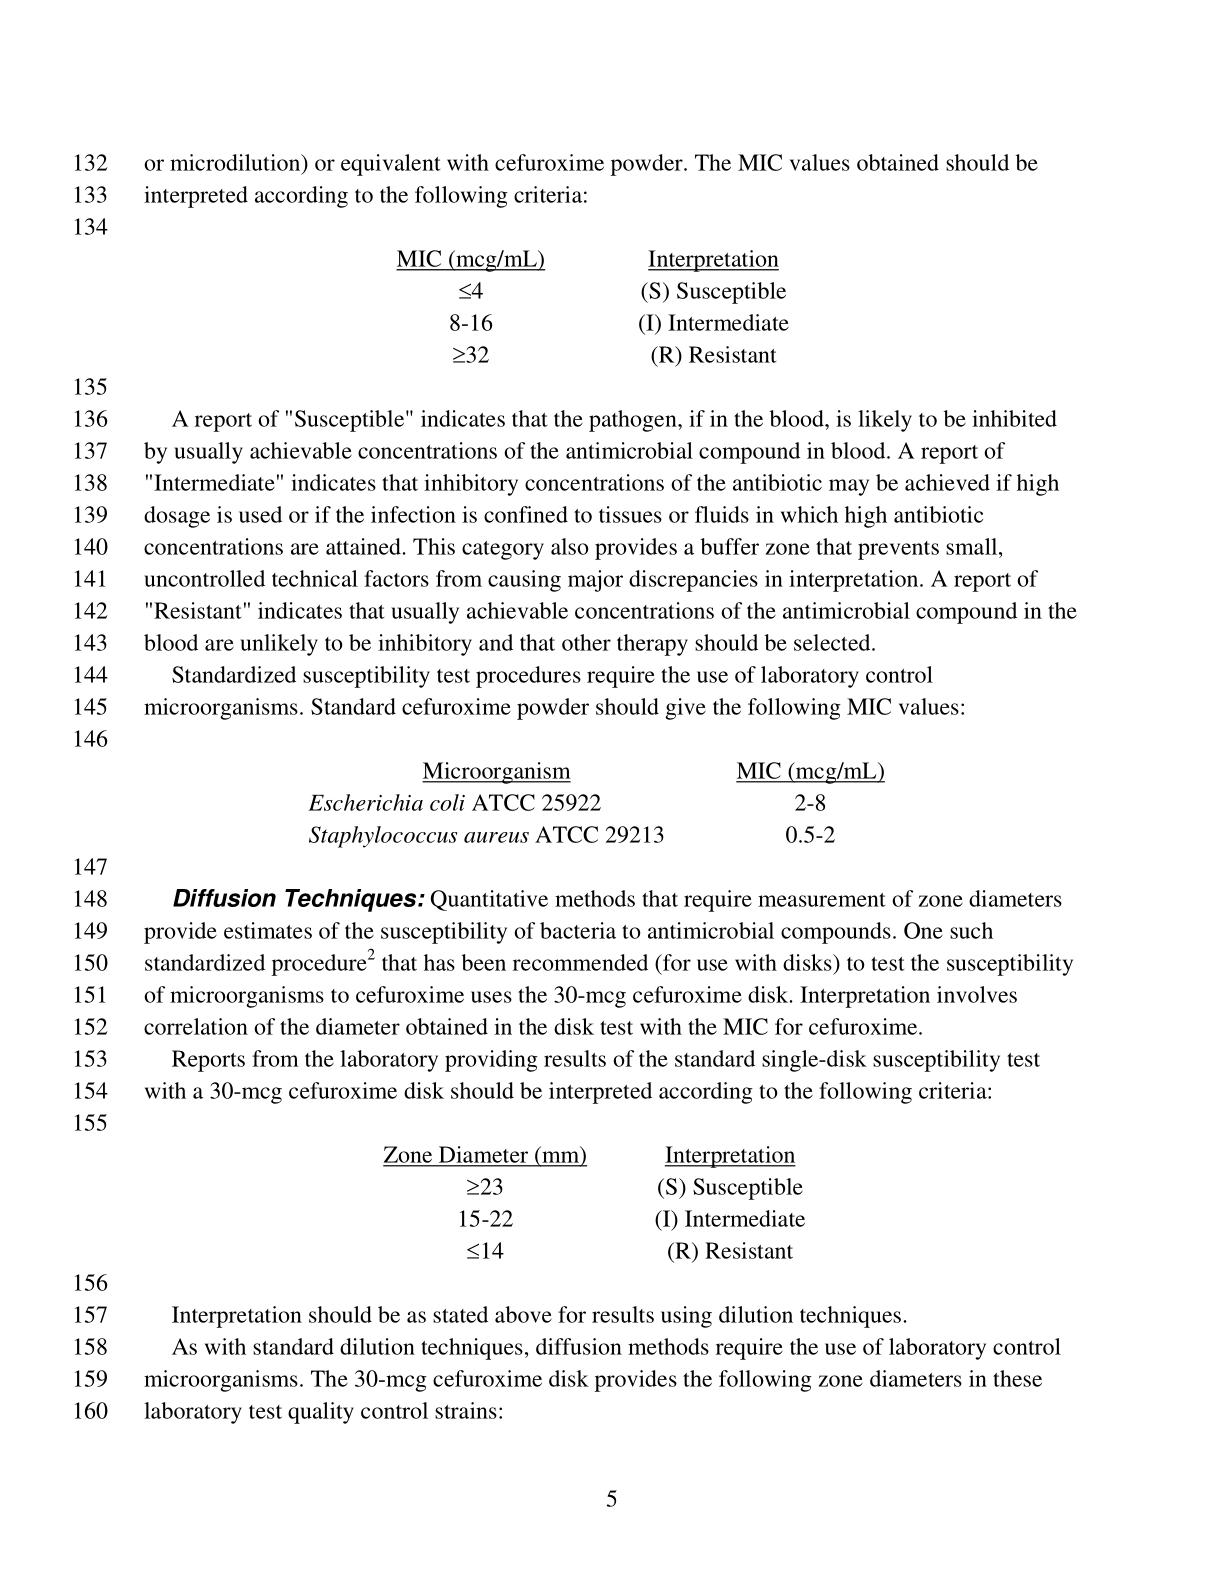nolines: (377, 1142, 807, 1263), (303, 757, 885, 845), (395, 242, 793, 366)
